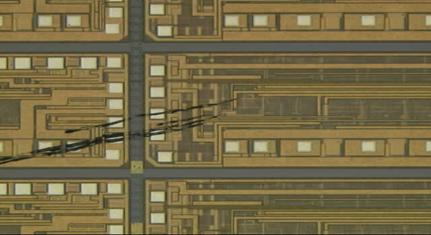SCRATCH: (1, 82, 257, 175)
